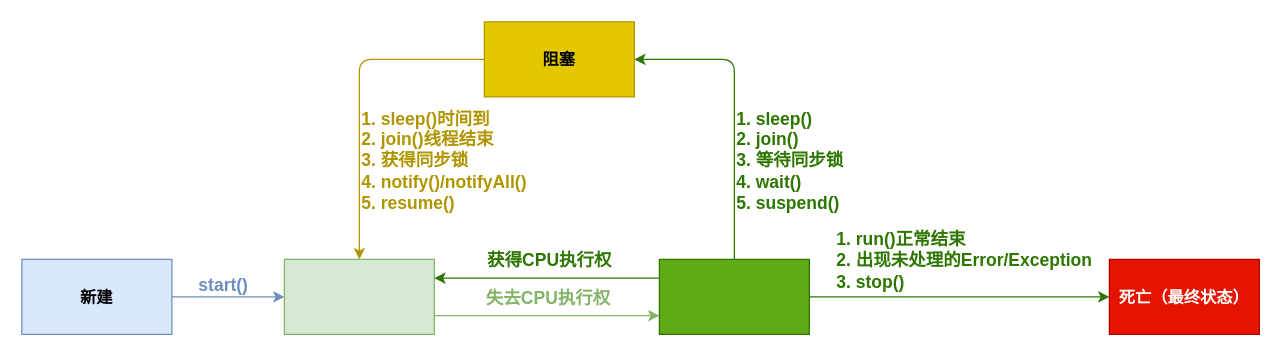
This 1281x356 diagram has some shape labels left out. The centre of each missing label's shape, as x and y in pixels:
就绪: point (358, 296)
运行: point (733, 296)
